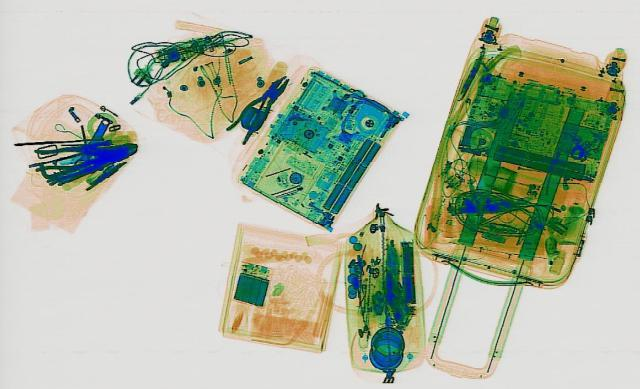Pliers: (24, 134, 148, 187), (216, 72, 302, 142)
Wrench: (68, 117, 112, 168)
